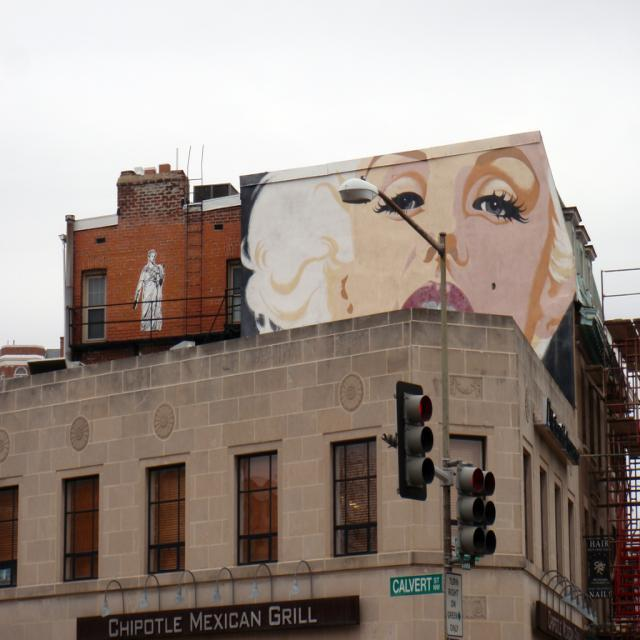traffic light: (396, 381, 435, 500), (456, 462, 496, 565)
